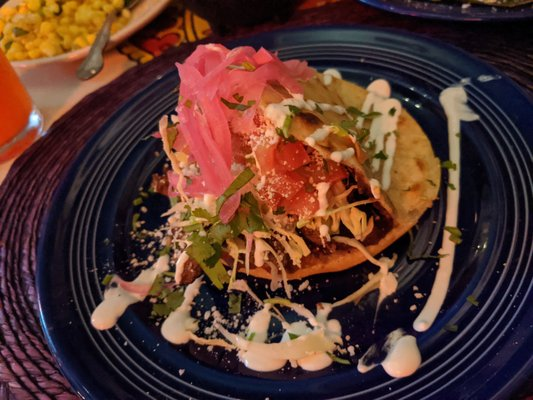salad: (76, 8, 118, 81)
